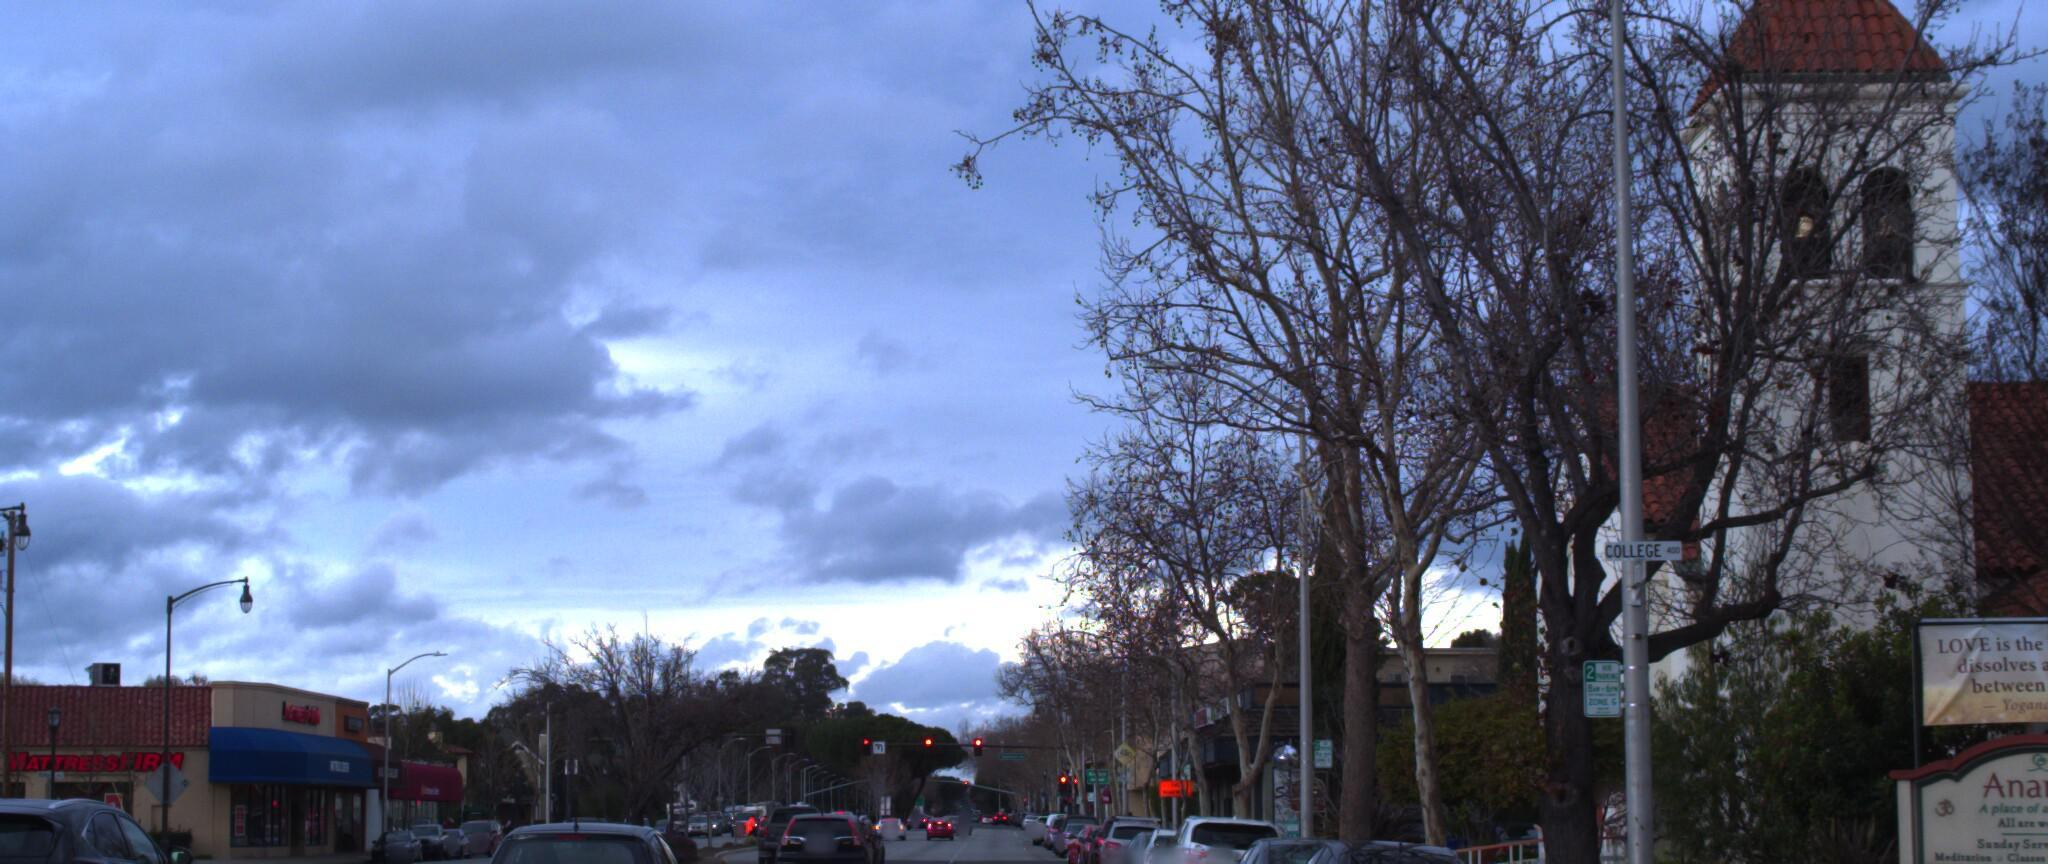car: (0, 794, 236, 864), (440, 816, 718, 864), (1247, 826, 1496, 864), (1148, 801, 1294, 864), (1202, 822, 1408, 864), (755, 797, 859, 864), (0, 777, 63, 864)
